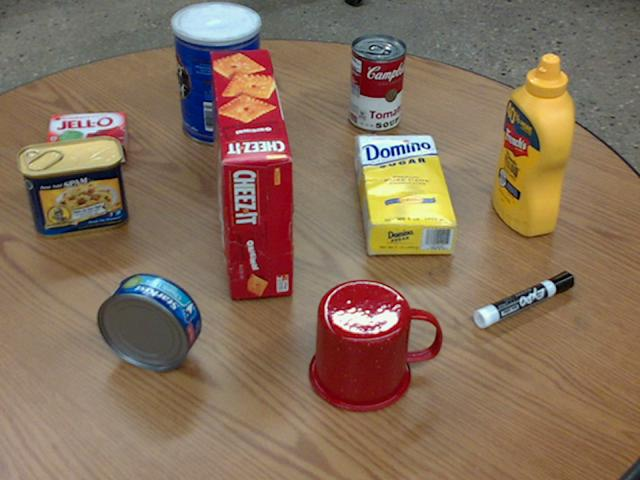cracker_box: (206, 49, 291, 297)
gelatin_box: (43, 111, 125, 162)
large_marker: (474, 272, 573, 328)
master_chef_can: (170, 2, 260, 144)
mug: (309, 279, 440, 411)
mustard_bottle: (492, 56, 573, 235)
potted_meat_can: (18, 134, 126, 235)
sugar_box: (355, 135, 456, 253)
tomato_soup_can: (348, 34, 405, 130)
tuna_fish_can: (98, 273, 201, 369)
